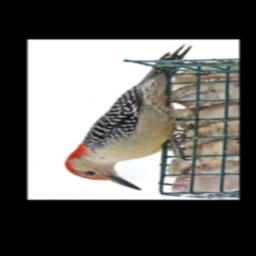Woodpecker: (65, 43, 194, 192)
